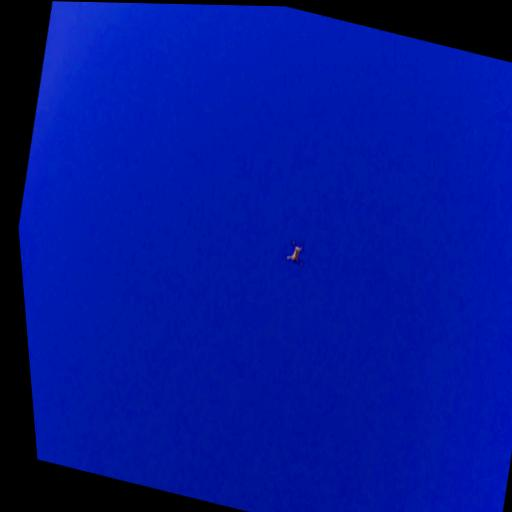drones: (280, 234, 311, 276)
